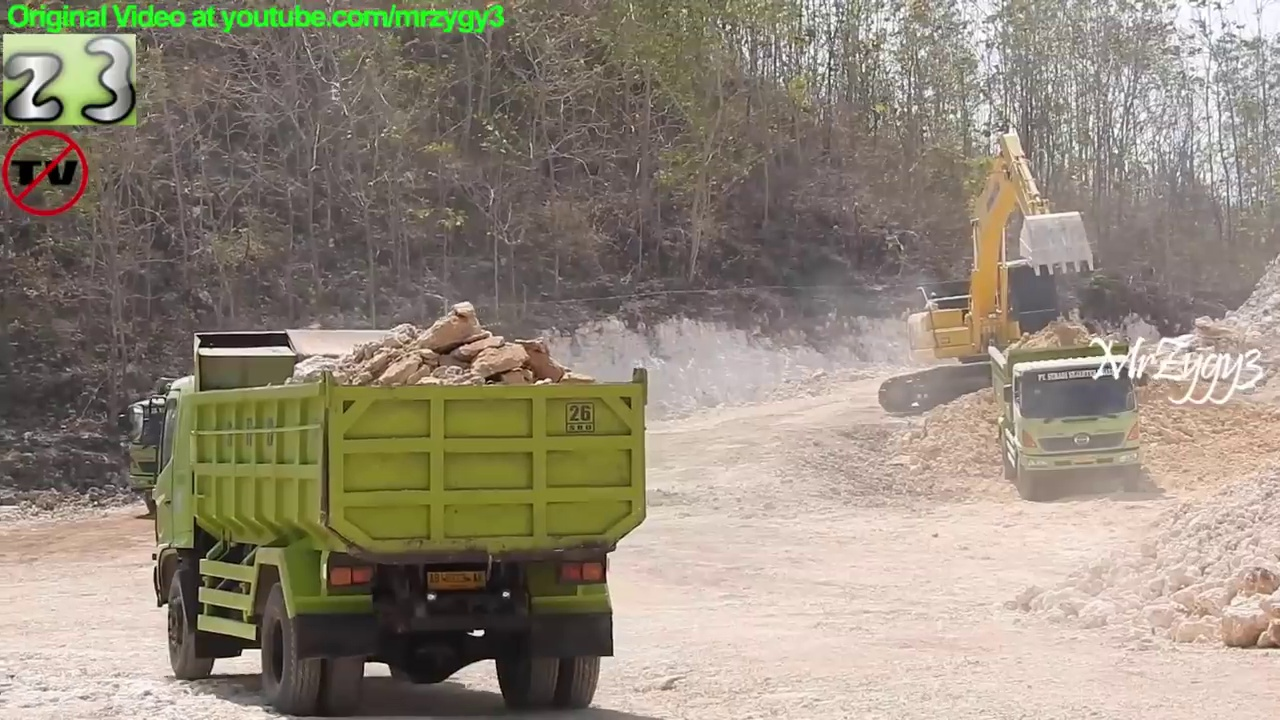excavator: (872, 119, 1151, 421)
truck: (124, 321, 657, 720), (115, 375, 392, 533), (982, 327, 1154, 499)
